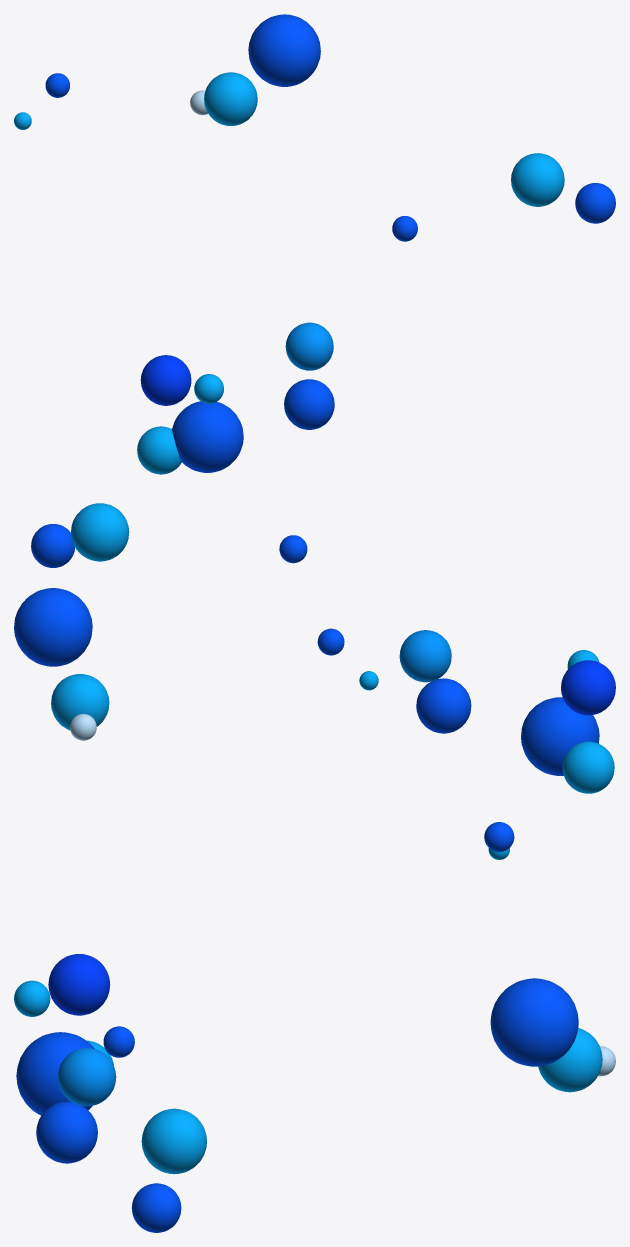
Rendered from Roomie_bubble.glb.
The picture shows the model from 3 angles, top to bottom: view 1: azimuth 30°, elevation 25°; view 2: azimuth 150°, elevation 25°; view 3: azimuth 270°, elevation 25°; orthographic projection. The views are drawn at different scales.
Visible parts, largest first — view 1: Sphere.009, Sphere.002, Sphere.010, Sphere.001, Sphere.012, Sphere.003, Sphere.013, Sphere.005, Sphere.006, Sphere.004; view 2: Sphere.009, Sphere.002, Sphere.001, Sphere.003, Sphere.012, Sphere.010, Sphere.013, Sphere.005, Sphere.006, Sphere, Sphere.008, Sphere.011; view 3: Sphere.009, Sphere.002, Sphere.001, Sphere.012, Sphere.003, Sphere.013, Sphere.010, Sphere.006, Sphere.004, Sphere, Sphere.008.
Part boxes in pixels (x1,y1,x2,y2): Sphere.009: (248,14,320,86); Sphere.002: (172,401,243,472); Sphere.010: (204,72,257,125); Sphere.001: (511,153,564,206); Sphere.012: (284,379,334,429); Sphere.003: (140,355,191,405); Sphere.013: (285,322,333,370); Sphere.005: (137,426,181,474); Sphere.006: (575,183,615,223); Sphere.004: (194,374,223,403); Sphere.009: (14,588,92,666); Sphere.002: (521,697,599,775); Sphere.001: (71,503,129,561); Sphere.003: (561,660,615,715); Sphere.012: (416,678,471,733); Sphere.010: (51,674,109,730); Sphere.013: (399,630,451,682); Sphere.005: (562,741,614,793); Sphere.006: (31,524,74,567); Sphere: (279,535,307,563); Sphere.008: (317,628,344,655); Sphere.011: (70,714,96,740); Sphere.009: (490,978,578,1066); Sphere.002: (16,1032,94,1115); Sphere.001: (141,1108,206,1174); Sphere.012: (36,1101,97,1163); Sphere.003: (48,954,110,1015); Sphere.013: (57,1048,116,1106); Sphere.010: (538,1028,602,1092); Sphere.006: (131,1183,181,1232); Sphere.004: (14,980,50,1016); Sphere: (103,1026,134,1057); Sphere.008: (484,822,514,851).
Bounding box in the file's own units: 7.09 × 3.46 × 6.05.
